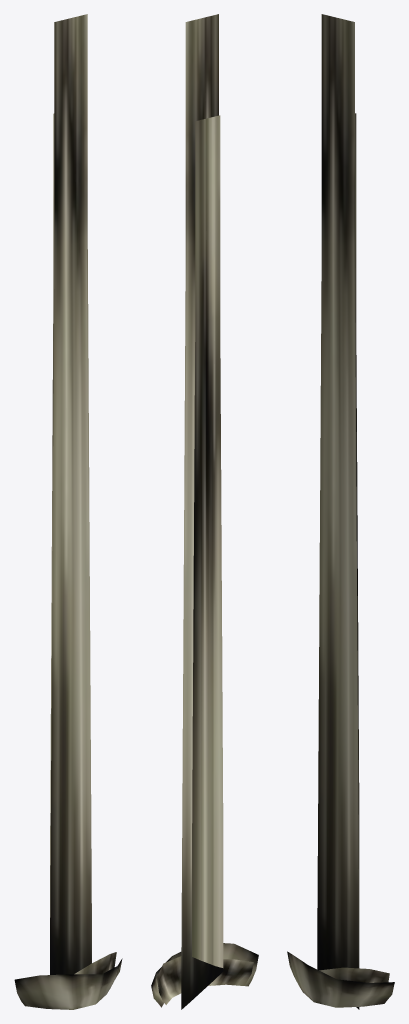
The model's file is pir_m_efx_msc_rayOfLight.fbx.
3 views of the same model, side by side, from view 1: azimuth 30°, elevation 25°; view 2: azimuth 210°, elevation 25°; view 3: azimuth 330°, elevation 25° (orthographic).
Visible parts, largest first — view 1: ray_main, ray_bottom; view 2: ray_main, ray_bottom; view 3: ray_main, ray_bottom.
Part boxes in pixels (<box>): ray_main: <box>50,14,91,974</box>; ray_bottom: <box>14,952,122,1009</box>; ray_main: <box>181,14,223,1009</box>; ray_bottom: <box>151,943,258,1007</box>; ray_main: <box>317,14,359,1009</box>; ray_bottom: <box>287,951,394,1007</box>.
Size of the model in its own units: 2086 by 18256 by 713.
1 material, 1 textured.
